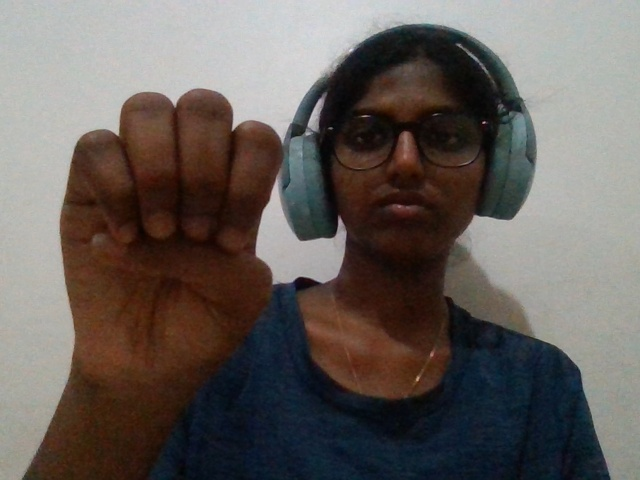E: (36, 63, 337, 447)
